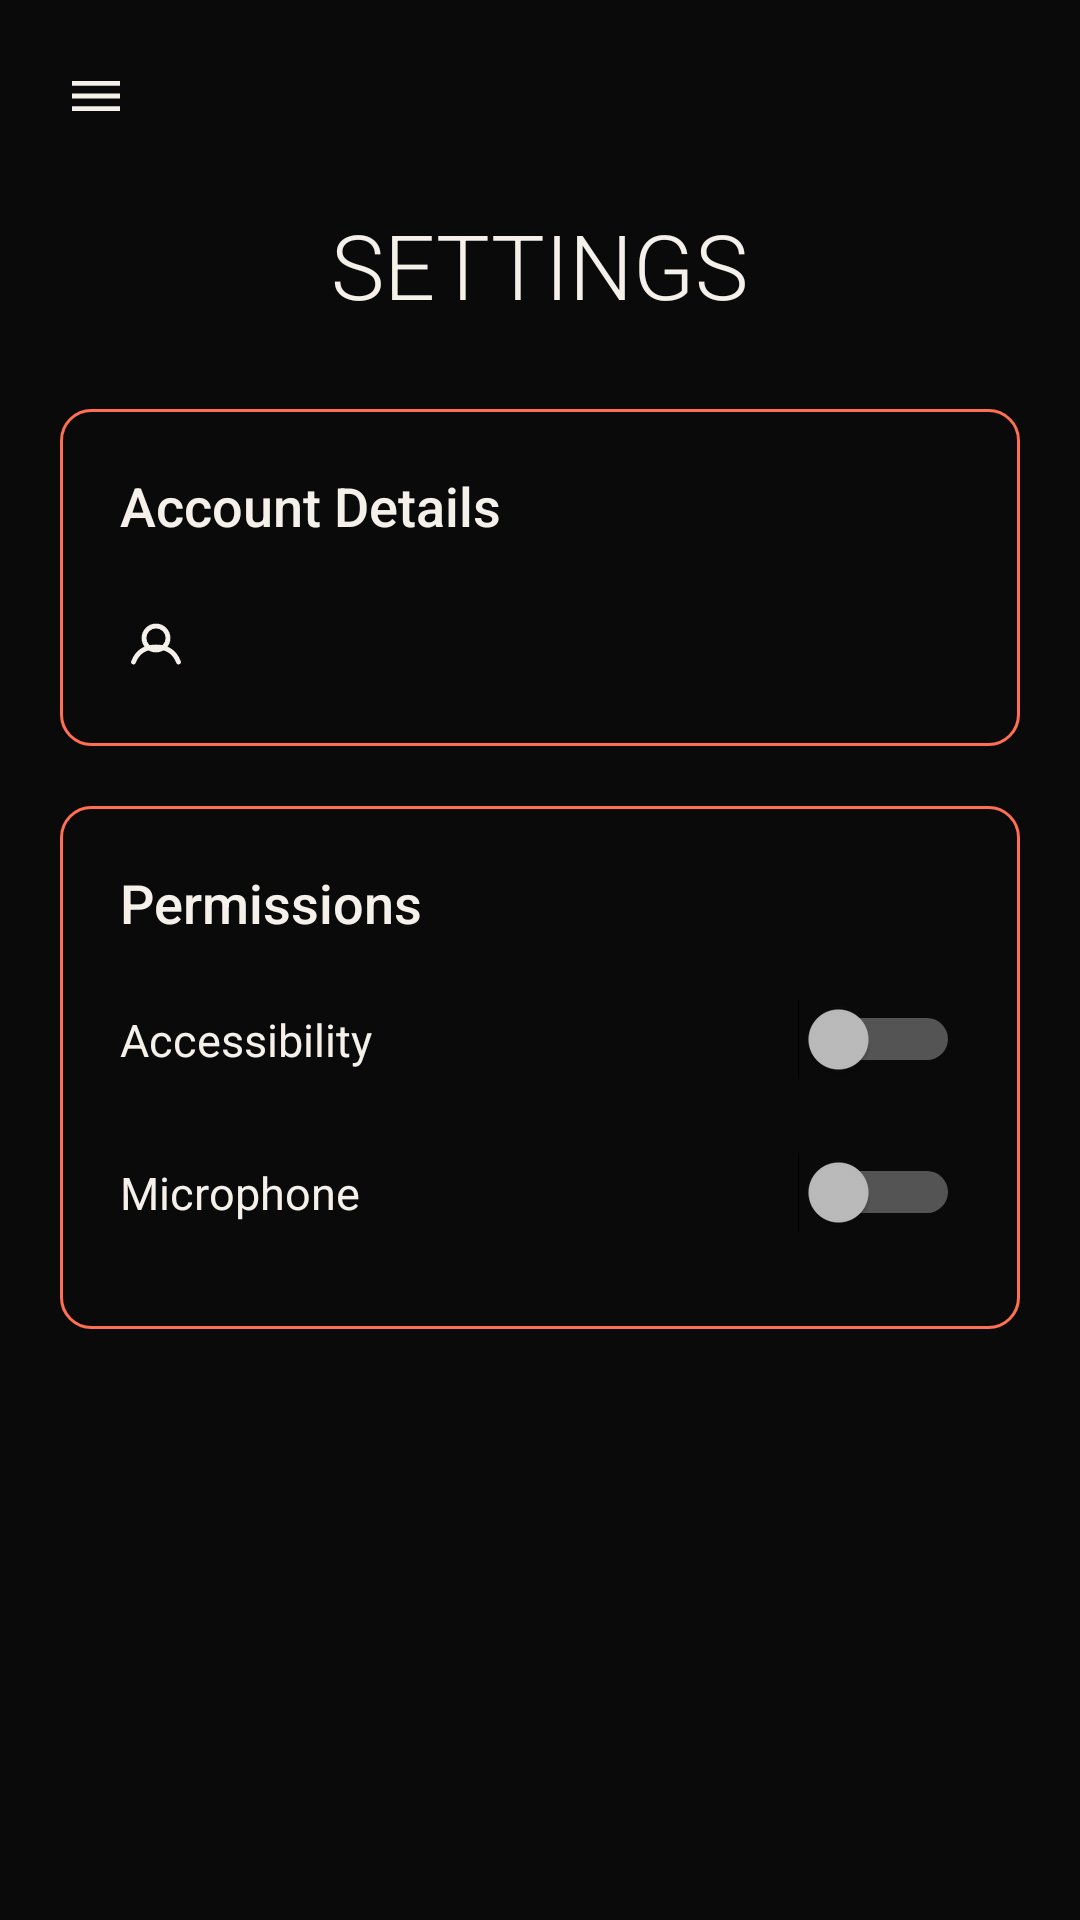

Locate icon controls on the screen. Image size 1080*1920, boxes as (x1, y1, x2, y2).
Menu: (72, 81, 120, 111)
profile: (131, 623, 181, 665)
